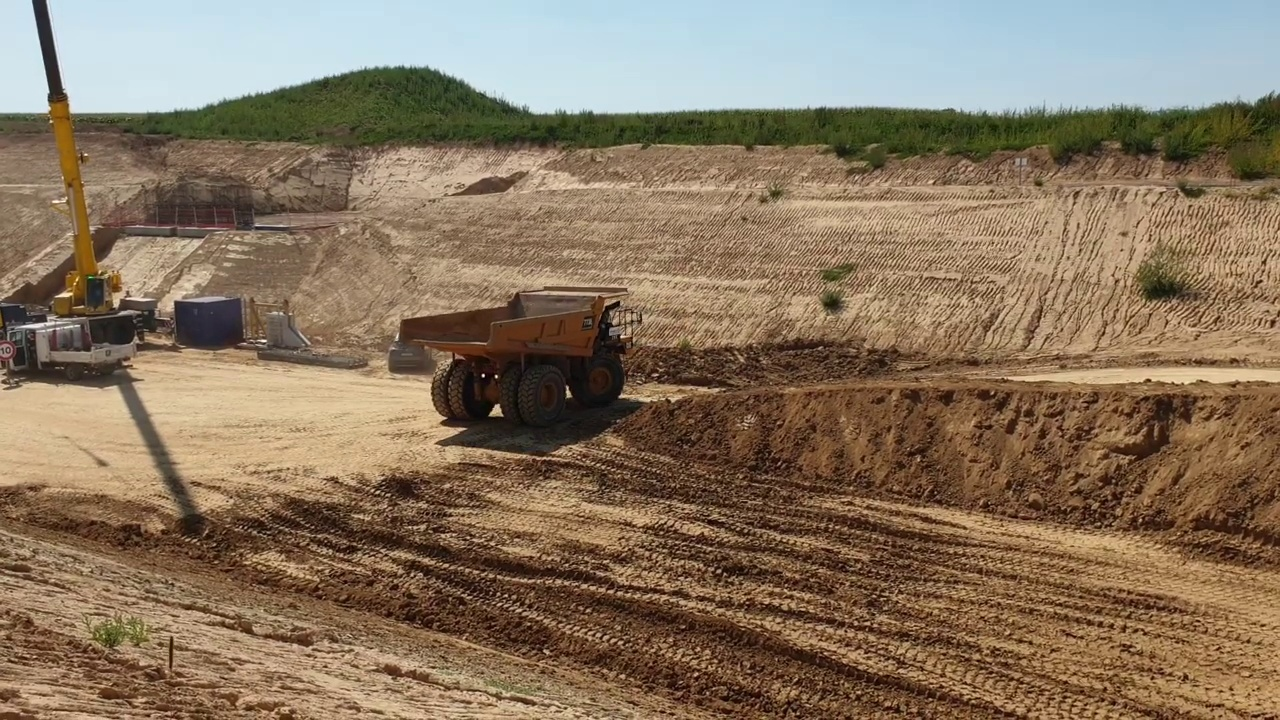crane: (1, 1, 142, 389)
truck: (391, 283, 649, 433)
